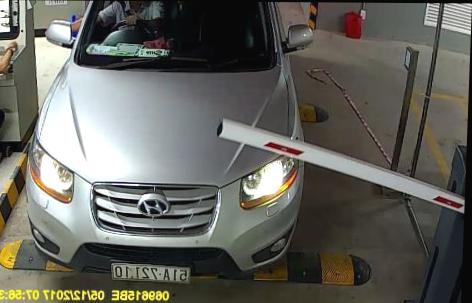License_Plate: (110, 249, 191, 286)
